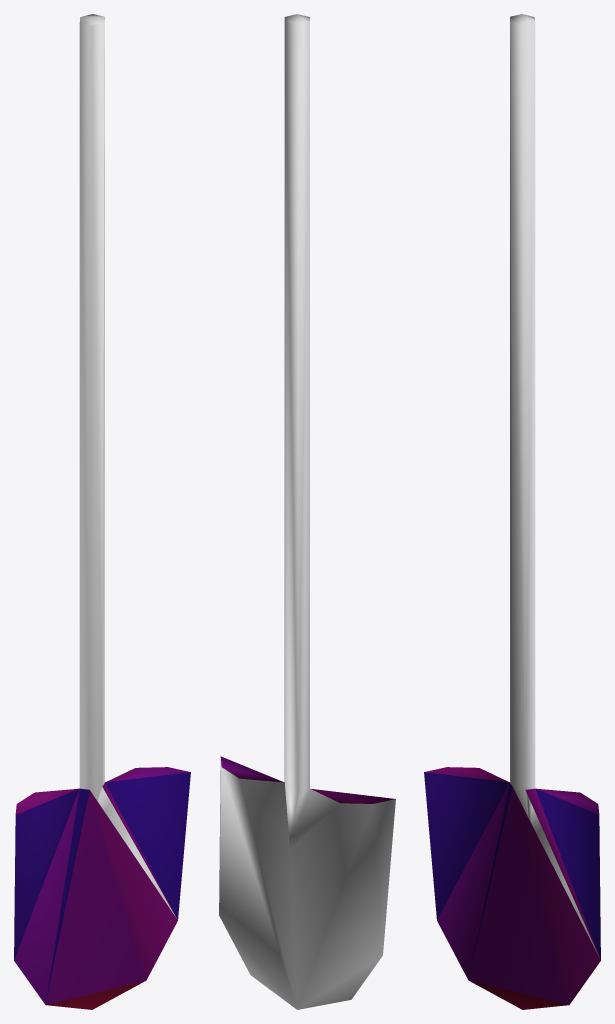
3 renders of one model, left to right at view 1: azimuth 30°, elevation 25°; view 2: azimuth 150°, elevation 25°; view 3: azimuth 330°, elevation 25°, orthographic.
Bounding box in the file's own units: 0.1761 × 0.95 × 0.0317.
